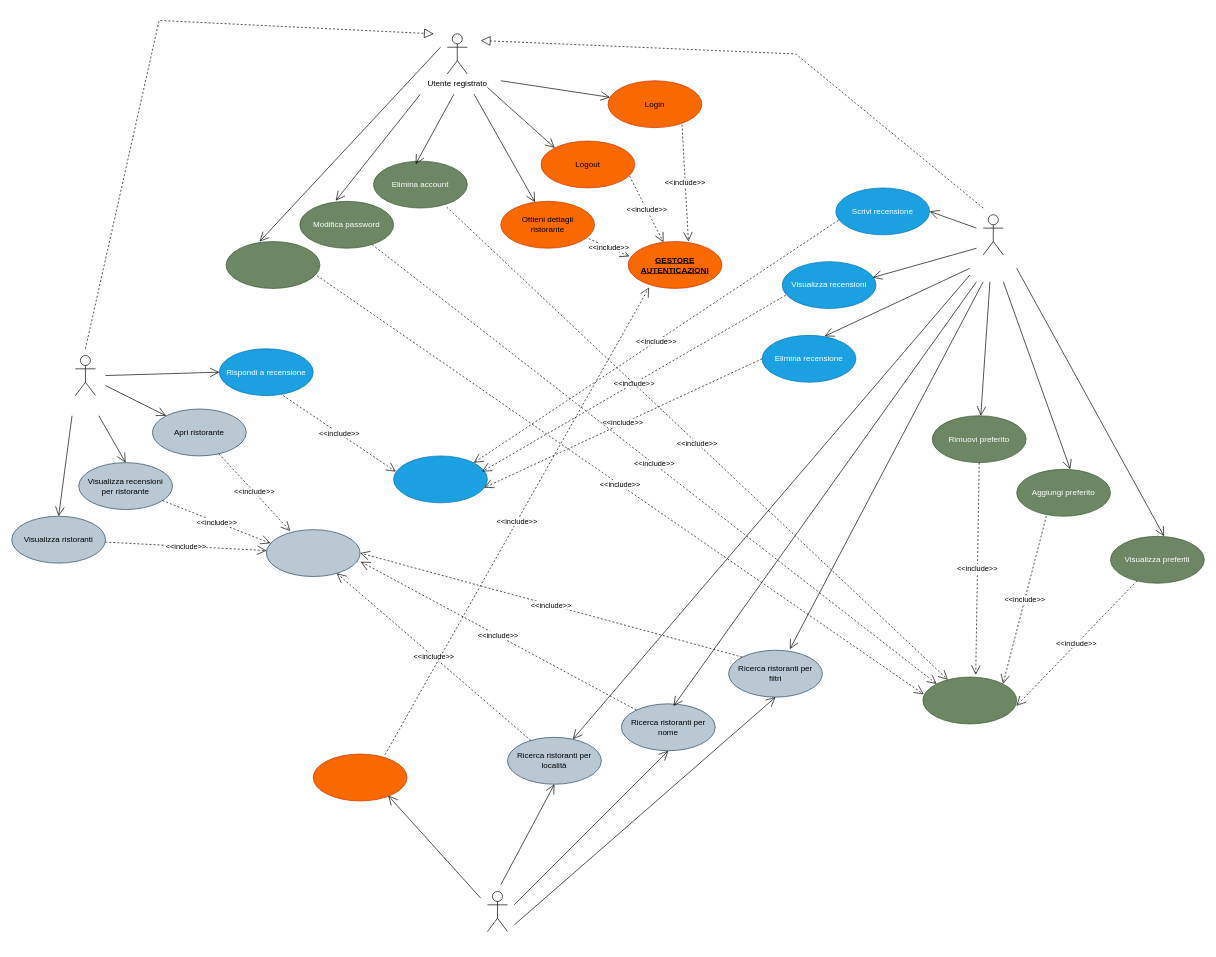
The diagram is 1216 pixels wide and 957 high, and some of its shapes have lost their labels. The shapes that lost their labels are listed below. From the top down, each one's box as (x1, y1, x2, y2) in pixels, then its label:
(983, 214, 1003, 255): Cliente
(225, 241, 320, 288): Modifica username
(75, 355, 95, 396): Ristoratore
(393, 455, 487, 503): GESTORE RECENSIONI
(266, 529, 360, 577): GESTORE RISTORANTI
(922, 676, 1017, 724): GESTORE UTENTI
(313, 753, 407, 801): Registrazione
(487, 891, 508, 932): Utente guest
